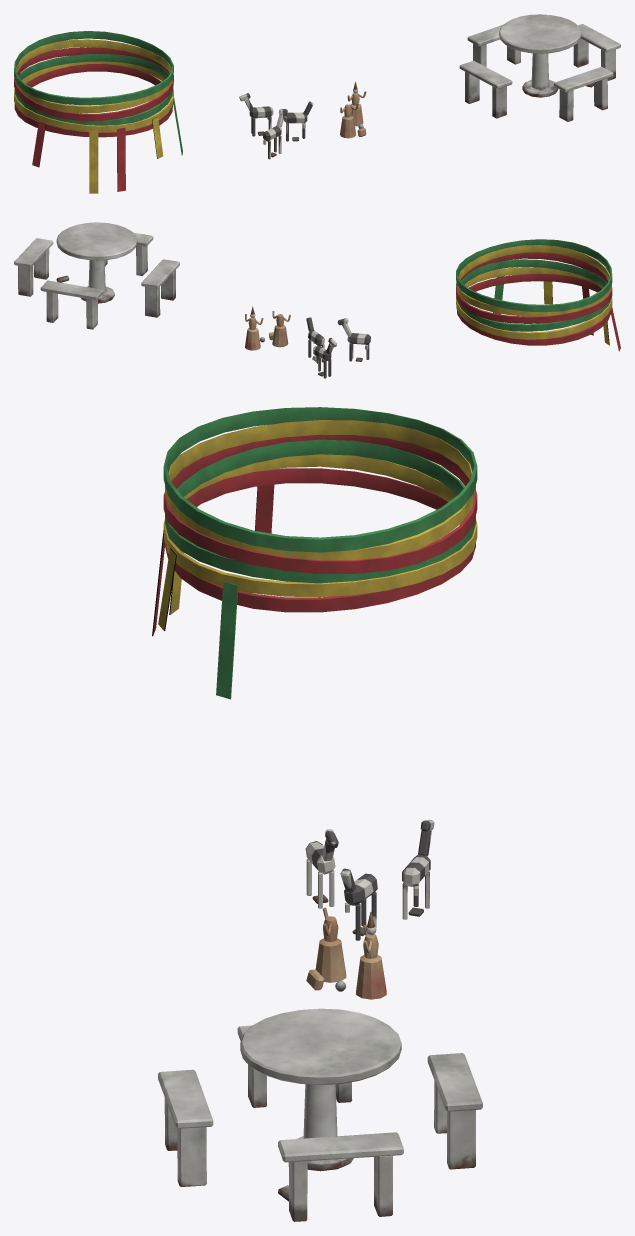
File: SacredBanyanProps.fbx
3 views of the same model, one above another, from view 1: azimuth 30°, elevation 25°; view 2: azimuth 150°, elevation 25°; view 3: azimuth 270°, elevation 25° (orthographic). The views are drawn at different scales.
Visible parts, largest first — view 1: SacredThaiRibbons, OldMarbleBenchSet, BrokenOfferings; view 2: SacredThaiRibbons, OldMarbleBenchSet, BrokenOfferings; view 3: SacredThaiRibbons, OldMarbleBenchSet, BrokenOfferings.
Part boxes in pixels (x1,y1,x2,y2): SacredThaiRibbons: (14, 31, 182, 193); OldMarbleBenchSet: (459, 14, 620, 121); BrokenOfferings: (239, 81, 366, 159); SacredThaiRibbons: (456, 239, 620, 351); OldMarbleBenchSet: (14, 222, 179, 329); BrokenOfferings: (245, 306, 370, 378); SacredThaiRibbons: (152, 407, 477, 699); OldMarbleBenchSet: (158, 1008, 482, 1221); BrokenOfferings: (305, 819, 434, 999).
Bounding box in the file's own units: 743 × 164 × 184.
1 material, 1 textured.
